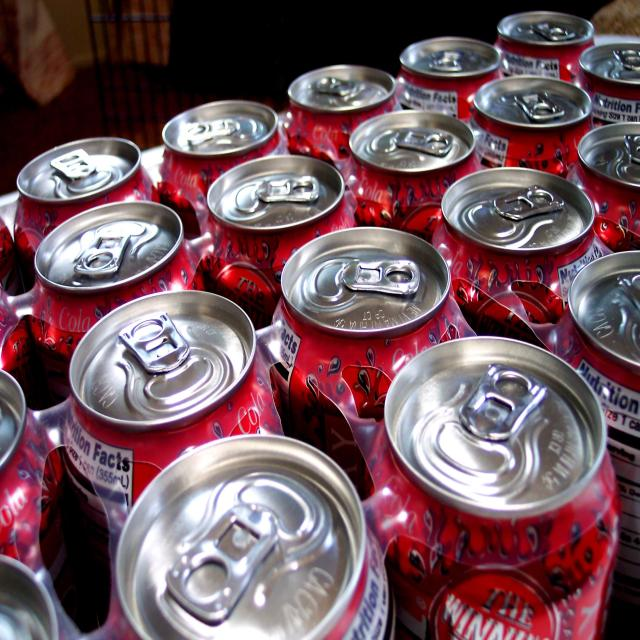pop tab: (166, 499, 282, 628), (459, 356, 552, 441), (118, 307, 190, 375), (340, 256, 421, 296), (491, 181, 565, 220), (74, 231, 128, 278), (258, 174, 321, 203), (399, 126, 454, 156), (50, 146, 51, 147)
